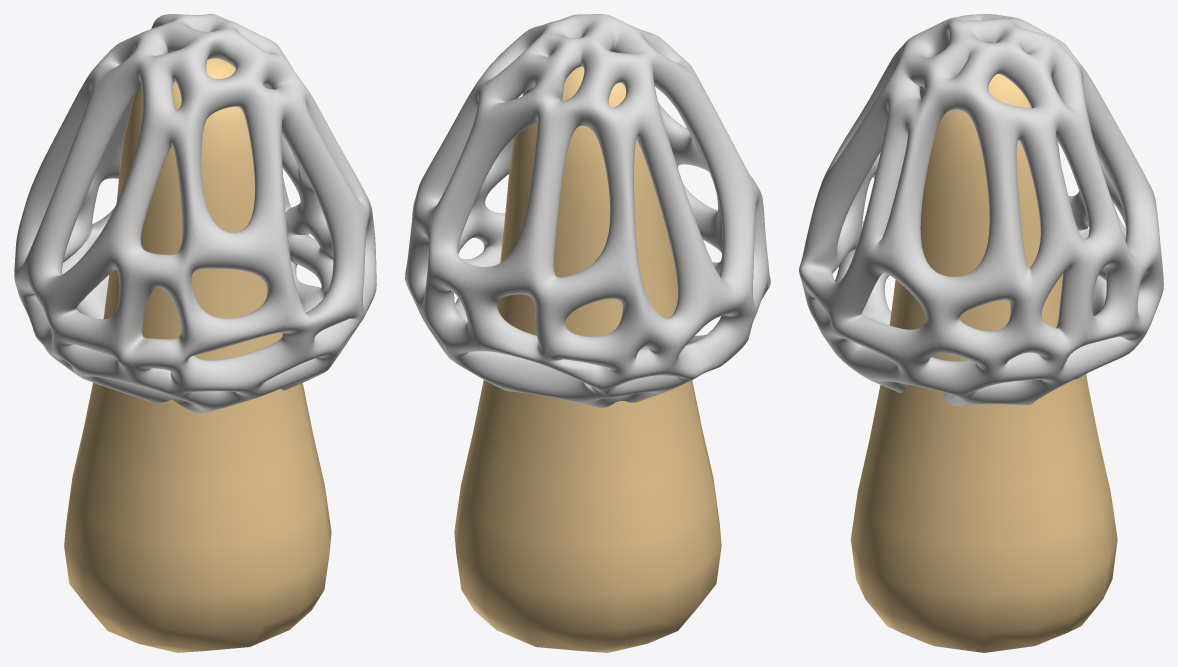
File: Colmenilla.fbx
3 views of the same model, side by side, from view 1: azimuth 30°, elevation 25°; view 2: azimuth 150°, elevation 25°; view 3: azimuth 270°, elevation 25° (orthographic).
Visible parts, largest first — view 1: Cube, Cube.001; view 2: Cube, Cube.001; view 3: Cube, Cube.001.
Part boxes in pixels (left/top/right/bottom): Cube: left=14, top=14, right=376, bottom=413; Cube.001: left=64, top=58, right=331, bottom=652; Cube: left=405, top=14, right=770, bottom=407; Cube.001: left=454, top=66, right=721, bottom=652; Cube: left=799, top=14, right=1163, bottom=406; Cube.001: left=850, top=74, right=1117, bottom=652.
Size of the model in its own units: 183 by 339 by 184.
